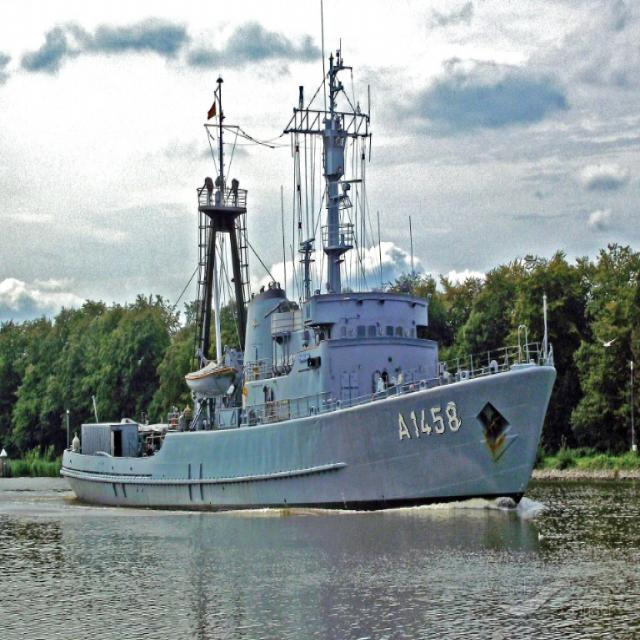OCR: (392, 401, 461, 444)
